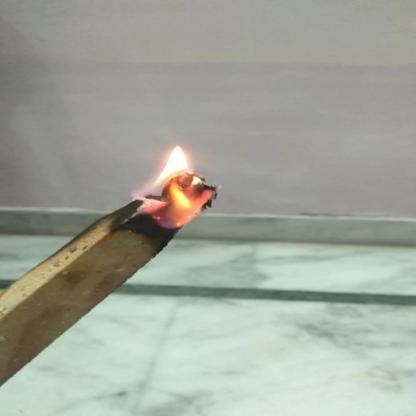fire: (128, 138, 222, 236)
